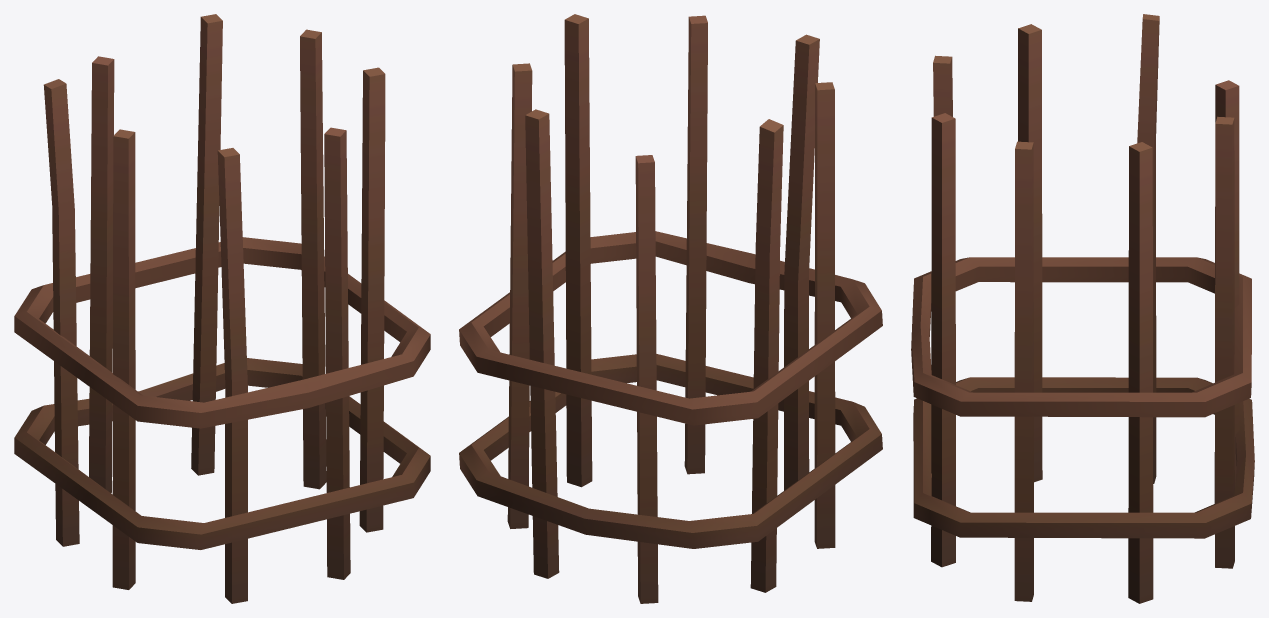
Rendered from RreinforcingBars_A_1.fbx.
3 renders of one model, left to right at view 1: azimuth 30°, elevation 25°; view 2: azimuth 150°, elevation 25°; view 3: azimuth 270°, elevation 25°, orthographic.
Parts seen in each view (by area): view 1: RreinforcingBars_A_1; view 2: RreinforcingBars_A_1; view 3: RreinforcingBars_A_1.
Part boxes in pixels (left/top/right/bottom): RreinforcingBars_A_1: left=14, top=14, right=430, bottom=603; RreinforcingBars_A_1: left=459, top=14, right=882, bottom=603; RreinforcingBars_A_1: left=911, top=14, right=1254, bottom=603.
Bounding box in the file's own units: 42.53 × 63.64 × 43.18.
